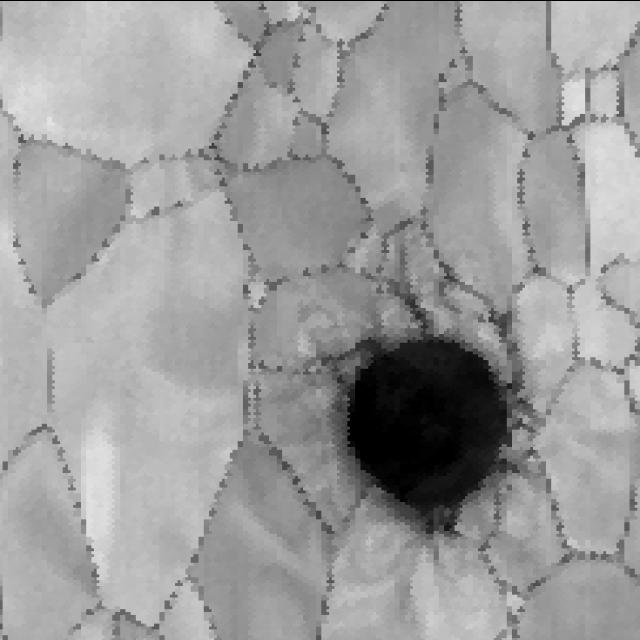good_void: (334, 285, 527, 529), (237, 272, 254, 300)
